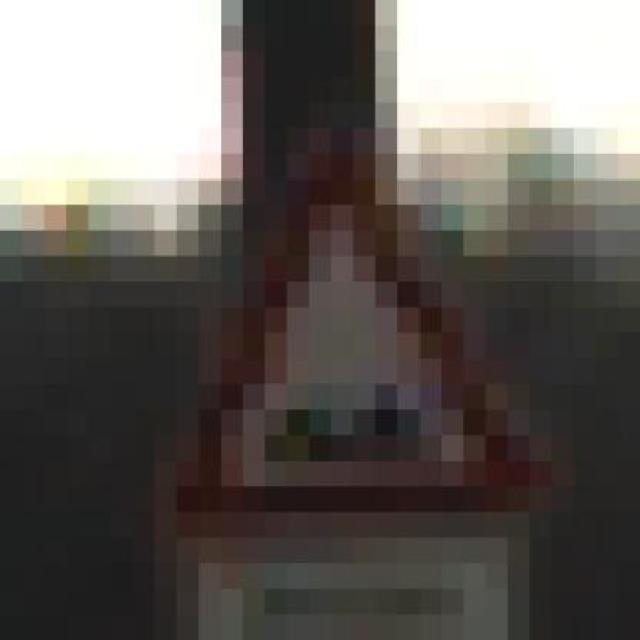Uneven Road: (132, 102, 530, 538)
